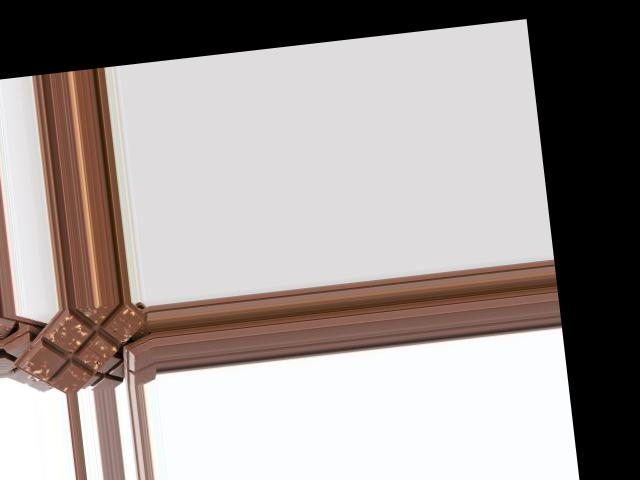chocolate: (18, 300, 152, 396)
